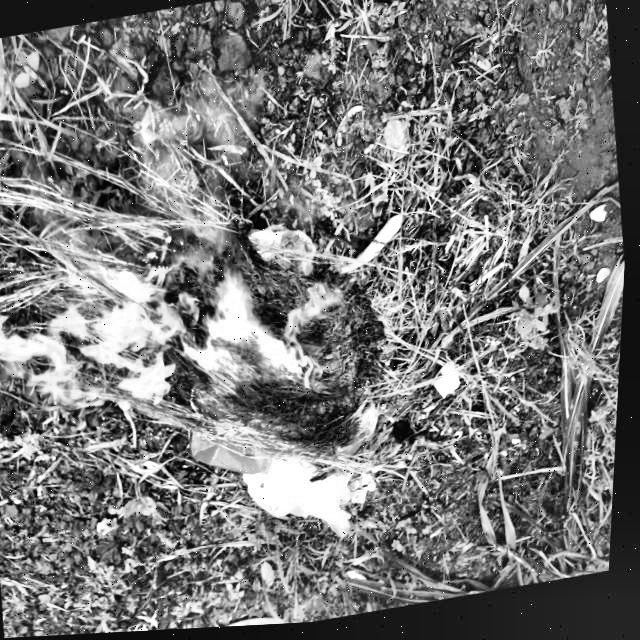Fire: (0, 232, 218, 433)
Smoke: (134, 92, 267, 284), (197, 273, 306, 396)
